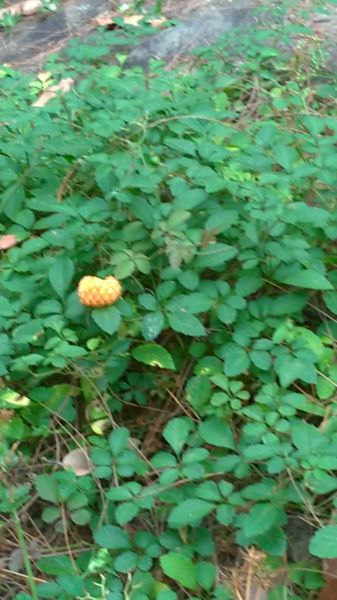eggs: (72, 271, 125, 310)
